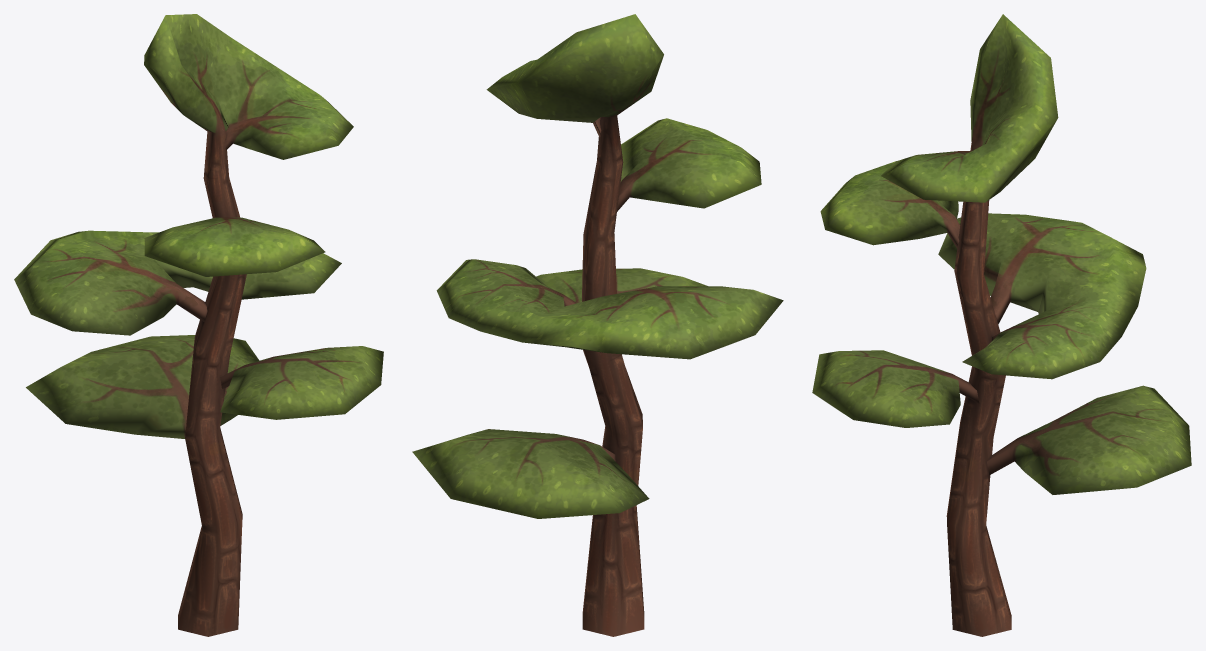
The model's file is forest_tree_2.FBX.
The picture shows the model from 3 angles, left to right: view 1: azimuth 30°, elevation 25°; view 2: azimuth 150°, elevation 25°; view 3: azimuth 270°, elevation 25°; orthographic projection. The views are drawn at different scales.
Parts seen in each view (by area): view 1: forest_tree_2; view 2: forest_tree_2; view 3: forest_tree_2.
Boxes of the visible parts, x1,y1,x2,y2 form: forest_tree_2: (14, 14, 383, 636); forest_tree_2: (412, 14, 783, 636); forest_tree_2: (812, 14, 1191, 636).
Bounding box in the file's own units: 335 × 657 × 381.
Materials: 1 (1 with a texture image).
